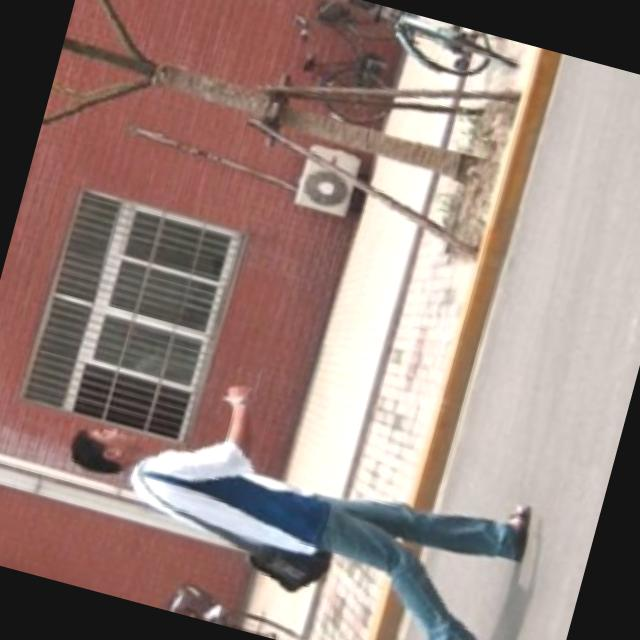Person: (31, 341, 580, 640)
